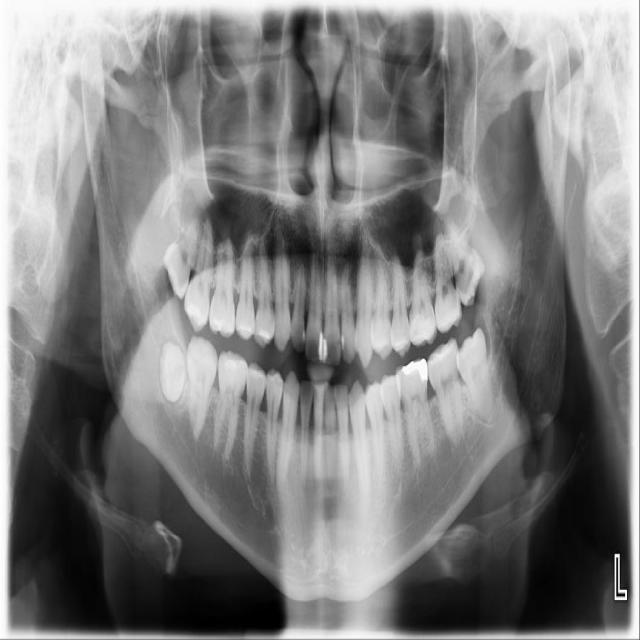Filling: (399, 359, 428, 383)
impacted tooth: (457, 329, 499, 423), (161, 342, 185, 400)
